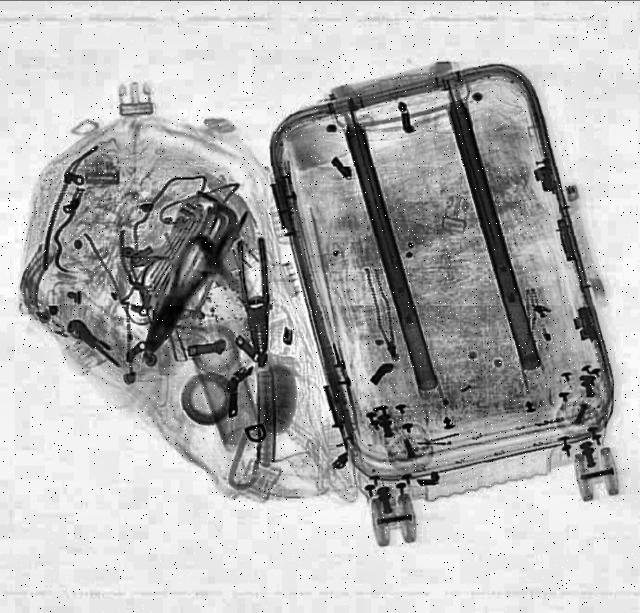Pliers: (125, 202, 249, 360), (231, 239, 277, 358)
